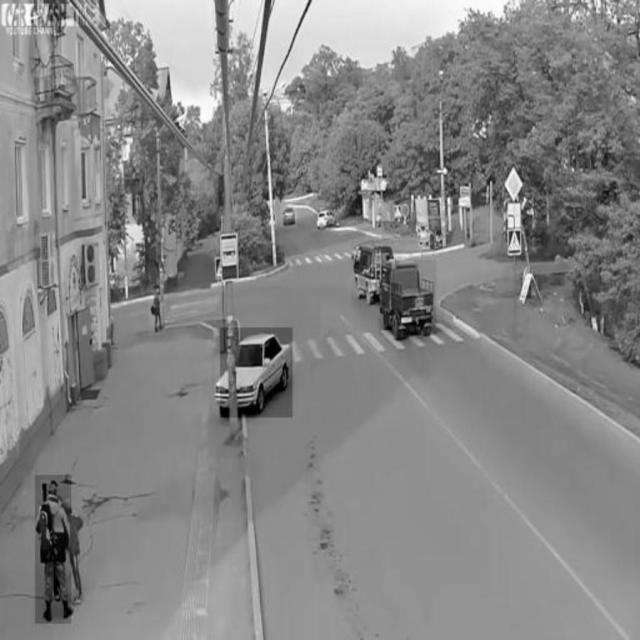person: (36, 475, 72, 623), (149, 281, 166, 336)
vehicle: (220, 328, 293, 418), (379, 259, 436, 335), (352, 241, 389, 308), (314, 206, 338, 233), (280, 204, 297, 228)
